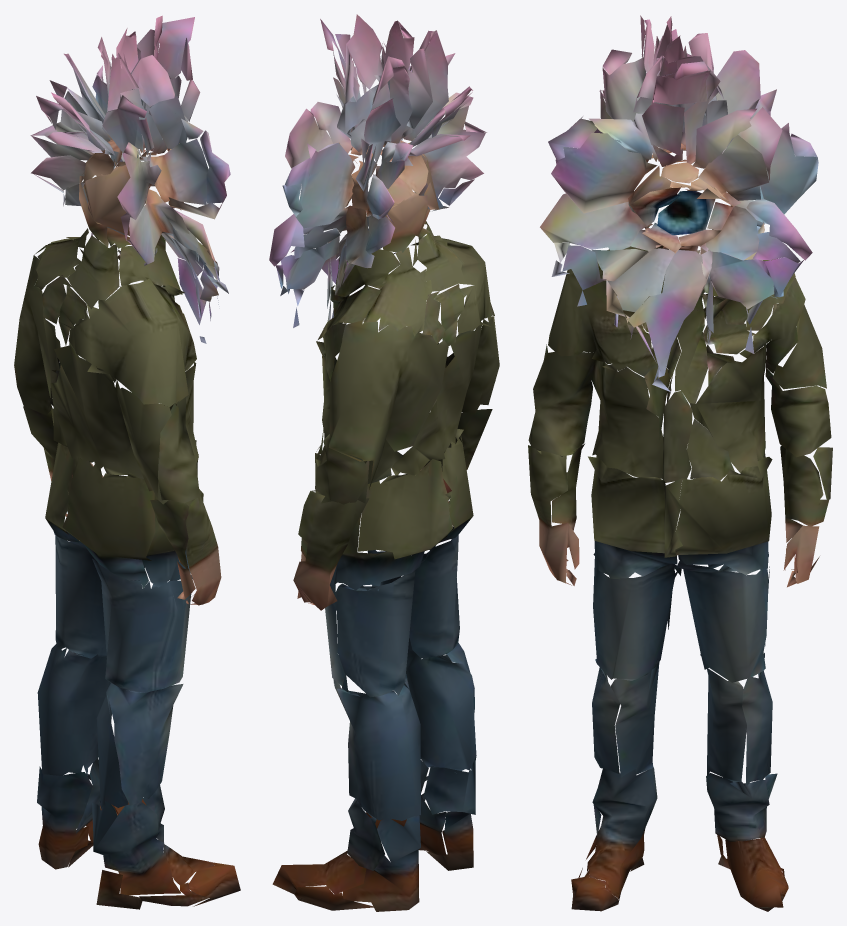
Rendered from cast_cabbie.glb.
3 renders of one model, left to right at view 1: azimuth 30°, elevation 25°; view 2: azimuth 150°, elevation 25°; view 3: azimuth 270°, elevation 25°, orthographic. The views are drawn at different scales.
Parts seen in each view (by area): view 1: tripo_node_a42e675f-a73e-45f9-b257-74cbc0c52e2a; view 2: tripo_node_a42e675f-a73e-45f9-b257-74cbc0c52e2a; view 3: tripo_node_a42e675f-a73e-45f9-b257-74cbc0c52e2a.
Boxes of the visible parts, x1,y1,x2,y2 form: tripo_node_a42e675f-a73e-45f9-b257-74cbc0c52e2a: (14, 15, 240, 909); tripo_node_a42e675f-a73e-45f9-b257-74cbc0c52e2a: (269, 14, 499, 911); tripo_node_a42e675f-a73e-45f9-b257-74cbc0c52e2a: (528, 15, 832, 911).
Size of the model in its own units: 0.1802 by 0.9997 by 0.3152.
Materials: 1 (1 with a texture image).
